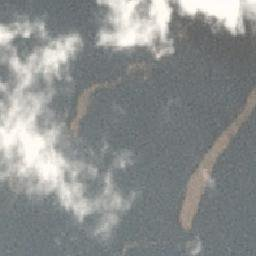cloud: (88, 2, 256, 59), (1, 12, 75, 112), (72, 143, 139, 246), (1, 113, 69, 201)
debris: (181, 170, 203, 230), (70, 81, 91, 136), (234, 87, 256, 130), (218, 114, 232, 153), (205, 140, 215, 184)
